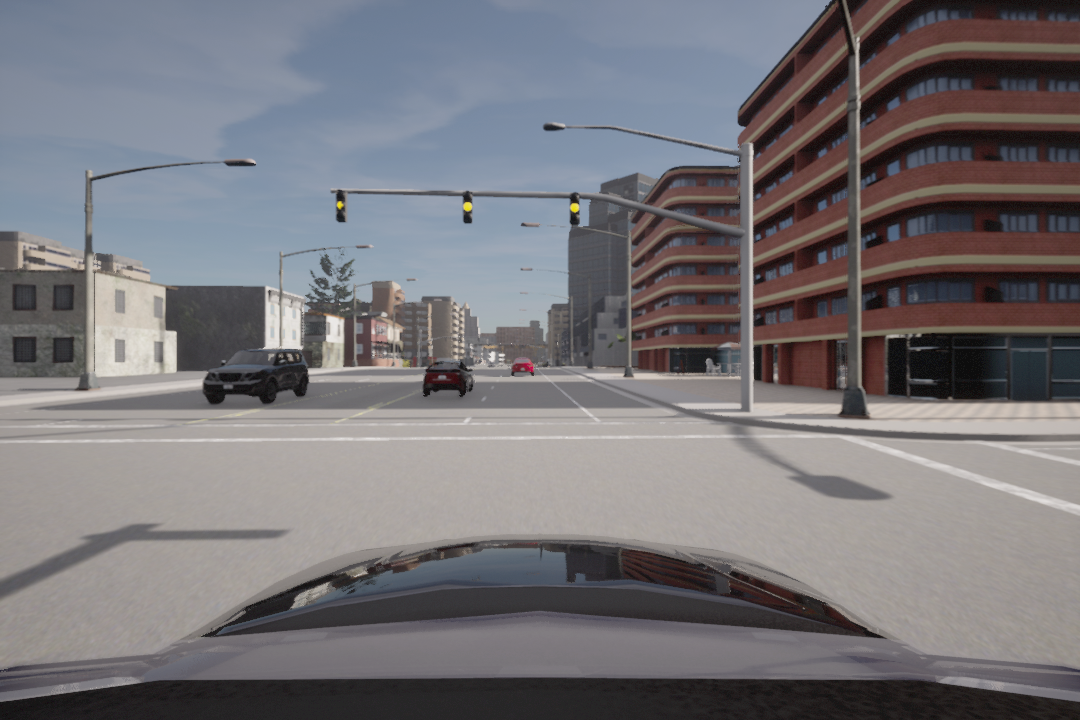TrafficLight: (459, 188, 477, 226), (333, 190, 350, 222), (566, 190, 581, 225)
